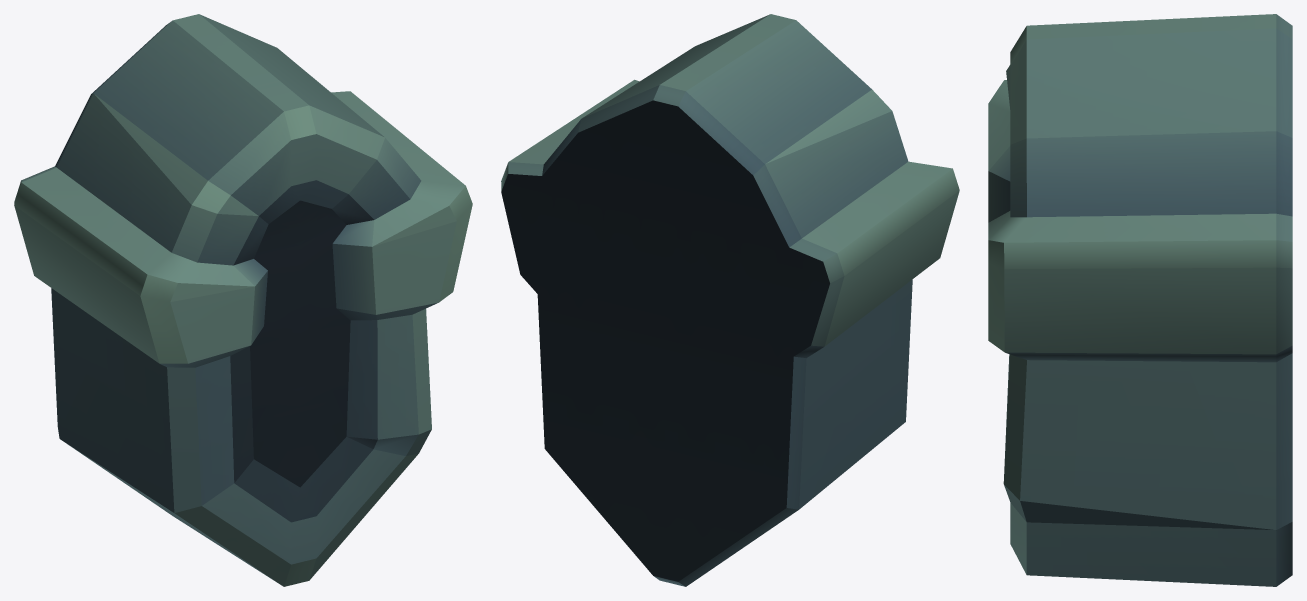
File: ornament_3.fbx
3 views of the same model, side by side, from view 1: azimuth 30°, elevation 25°; view 2: azimuth 150°, elevation 25°; view 3: azimuth 270°, elevation 25° (orthographic). The views are drawn at different scales.
Parts seen in each view (by area): view 1: ornament_3; view 2: ornament_3; view 3: ornament_3.
Part boxes in pixels (<box>): ornament_3: <box>14,14,472,586</box>; ornament_3: <box>501,14,959,586</box>; ornament_3: <box>988,14,1292,586</box>.
Size of the model in its own units: 158 by 218 by 108.
